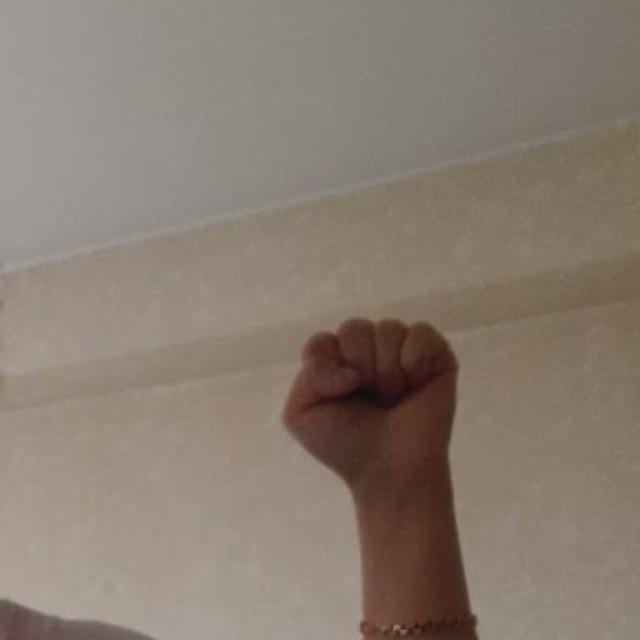hand: (279, 314, 460, 501)
